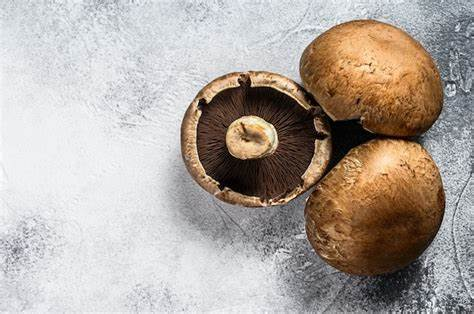Mushroom: (178, 62, 334, 213)
